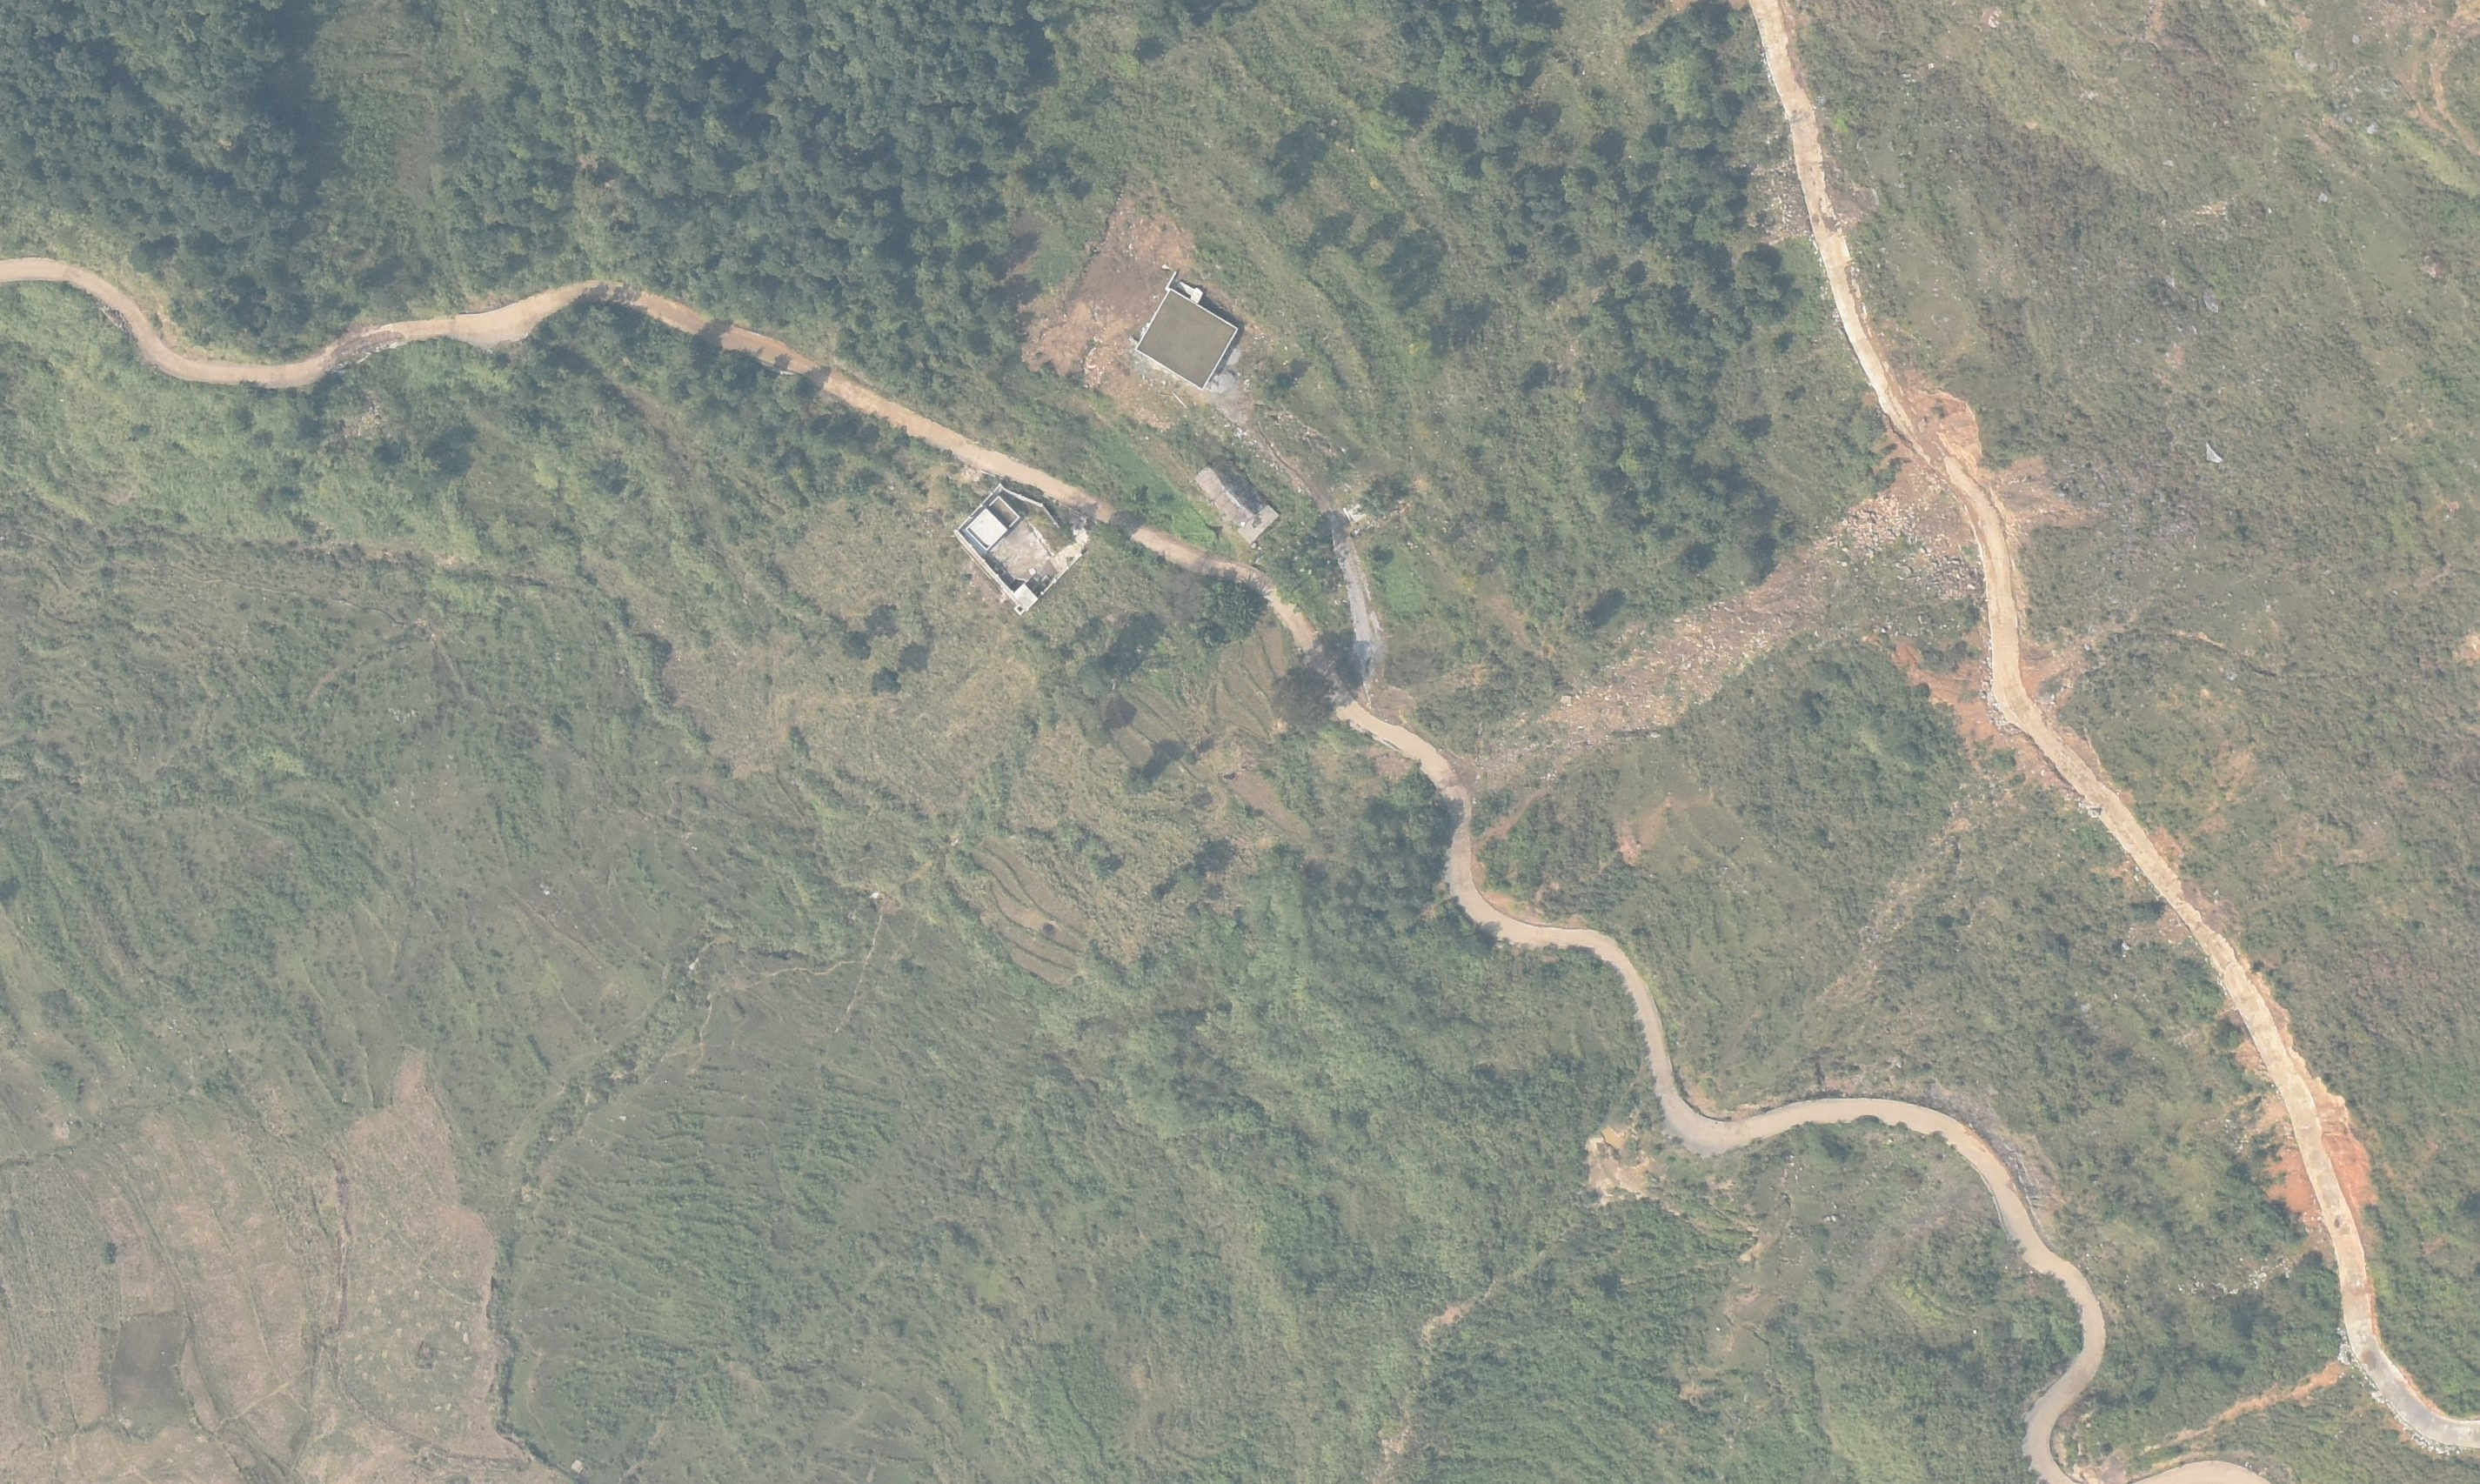building: (937, 474, 1091, 614), (1119, 265, 1250, 401), (1185, 456, 1265, 522), (1231, 500, 1286, 542)
